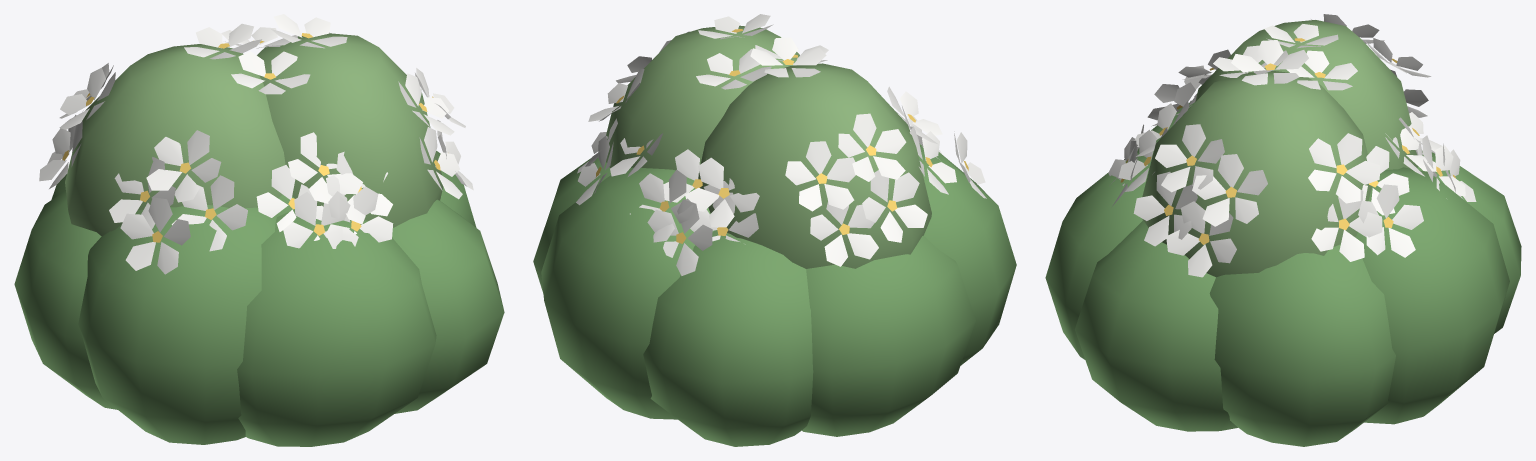
File: flowerbush.glb
The picture shows the model from 3 angles, left to right: view 1: azimuth 30°, elevation 25°; view 2: azimuth 150°, elevation 25°; view 3: azimuth 270°, elevation 25°; orthographic projection. The views are drawn at different scales.
Parts seen in each view (by area): view 1: Foliage | scalloped leaf cluster.006, Foliage | scalloped leaf cluster.005, Foliage | scalloped leaf cluster.008, Foliage | scalloped leaf cluster.009, Foliage | scalloped leaf cluster.007, Foliage | scalloped leaf cluster.004, Flower | five broad petals.003, Flower | five broad petals.001, Flower | five broad petals, Flower | five broad petals.005, Flower | five broad petals.008, Flower | five broad petals.007 (+12 smaller); view 2: Foliage | scalloped leaf cluster.003, Foliage | scalloped leaf cluster.004, Foliage | scalloped leaf cluster.008, Foliage | scalloped leaf cluster.002, Foliage | scalloped leaf cluster.009, Foliage | scalloped leaf cluster.005, Flower | five broad petals.023, Flower | five broad petals.022, Flower | five broad petals.025, Flower | five broad petals.024, Flower | five broad petals.017, Flower | five broad petals.020 (+13 smaller); view 3: Foliage | scalloped leaf cluster.001, Foliage | scalloped leaf cluster.009, Foliage | scalloped leaf cluster.002, Foliage | scalloped leaf cluster.007, Foliage | scalloped leaf cluster.008, Foliage | scalloped leaf cluster.006, Foliage | scalloped leaf cluster.003, Flower | five broad petals.009, Flower | five broad petals.014, Flower | five broad petals.012, Flower | five broad petals.010, Flower | five broad petals.016 (+18 smaller).
Part boxes in pixels (left/top/right/bottom): Foliage | scalloped leaf cluster.006: left=237, top=209, right=436, bottom=446; Foliage | scalloped leaf cluster.005: left=78, top=205, right=276, bottom=444; Foliage | scalloped leaf cluster.008: left=65, top=44, right=285, bottom=236; Foliage | scalloped leaf cluster.009: left=257, top=33, right=443, bottom=227; Foliage | scalloped leaf cluster.007: left=392, top=199, right=504, bottom=413; Foliage | scalloped leaf cluster.004: left=14, top=190, right=117, bottom=409; Flower | five broad petals.003: left=120, top=197, right=190, bottom=274; Flower | five broad petals.001: left=146, top=130, right=221, bottom=202; Flower | five broad petals: left=171, top=175, right=247, bottom=251; Flower | five broad petals.005: left=288, top=132, right=362, bottom=203; Flower | five broad petals.008: left=325, top=186, right=393, bottom=248; Flower | five broad petals.007: left=283, top=192, right=358, bottom=248; Foliage | scalloped leaf cluster.003: left=643, top=230, right=813, bottom=446; Foliage | scalloped leaf cluster.004: left=802, top=236, right=975, bottom=436; Foliage | scalloped leaf cluster.008: left=698, top=63, right=931, bottom=268; Foliage | scalloped leaf cluster.002: left=541, top=167, right=714, bottom=419; Foliage | scalloped leaf cluster.009: left=606, top=25, right=799, bottom=173; Foliage | scalloped leaf cluster.005: left=918, top=143, right=1016, bottom=365; Flower | five broad petals.023: left=785, top=141, right=855, bottom=211; Flower | five broad petals.022: left=838, top=113, right=906, bottom=181; Flower | five broad petals.025: left=862, top=170, right=927, bottom=242; Flower | five broad petals.024: left=810, top=201, right=878, bottom=266; Flower | five broad petals.017: left=685, top=157, right=759, bottom=227; Flower | five broad petals.020: left=647, top=199, right=712, bottom=275; Foliage | scalloped leaf cluster.001: left=1209, top=244, right=1395, bottom=446; Foliage | scalloped leaf cluster.009: left=1142, top=70, right=1371, bottom=277; Foliage | scalloped leaf cluster.002: left=1355, top=167, right=1509, bottom=424; Foliage | scalloped leaf cluster.007: left=1074, top=221, right=1237, bottom=431; Foliage | scalloped leaf cluster.008: left=1195, top=20, right=1418, bottom=169; Foliage | scalloped leaf cluster.006: left=1045, top=151, right=1153, bottom=359; Foliage | scalloped leaf cluster.003: left=1417, top=150, right=1521, bottom=333; Flower | five broad petals.009: left=1192, top=154, right=1267, bottom=226; Flower | five broad petals.014: left=1308, top=133, right=1379, bottom=203; Flower | five broad petals.012: left=1166, top=201, right=1236, bottom=277; Flower | five broad petals.010: left=1155, top=124, right=1224, bottom=192; Flower | five broad petals.016: left=1358, top=184, right=1423, bottom=257.
Size of the model in its own units: 0.48 by 0.39 by 0.48.
